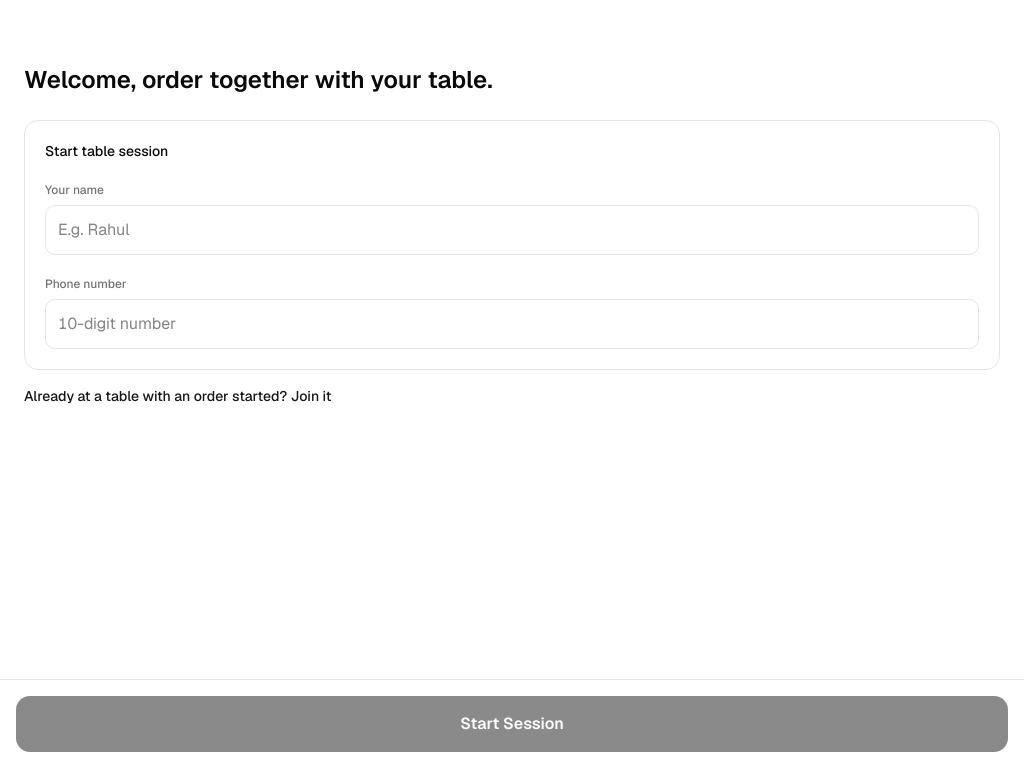
WelcomeFlow › a start attempt that 409s (session_already_open) flips into join mode with a friendly notice, not an error
The image size is (1024, 768).
Type "Rahul" into the field labelled "Your name" at (512, 230), box x1=45 y1=205 x2=979 y2=255
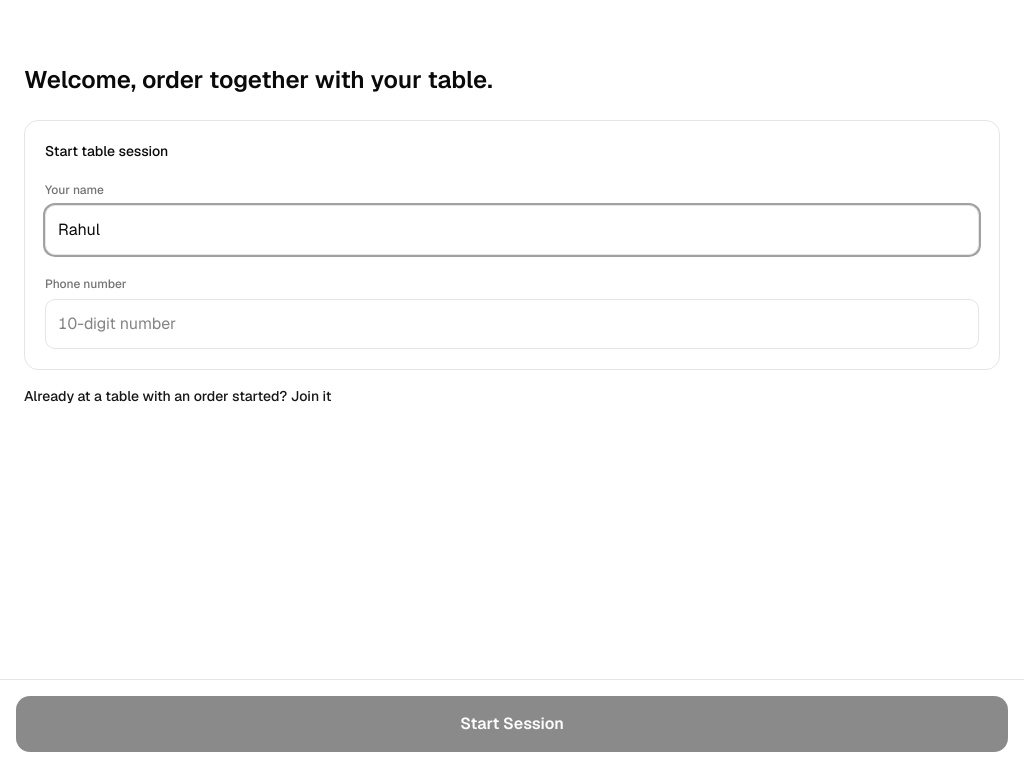
Type "9876543210" into the field labelled "Phone number" at (512, 324), box x1=45 y1=299 x2=979 y2=349
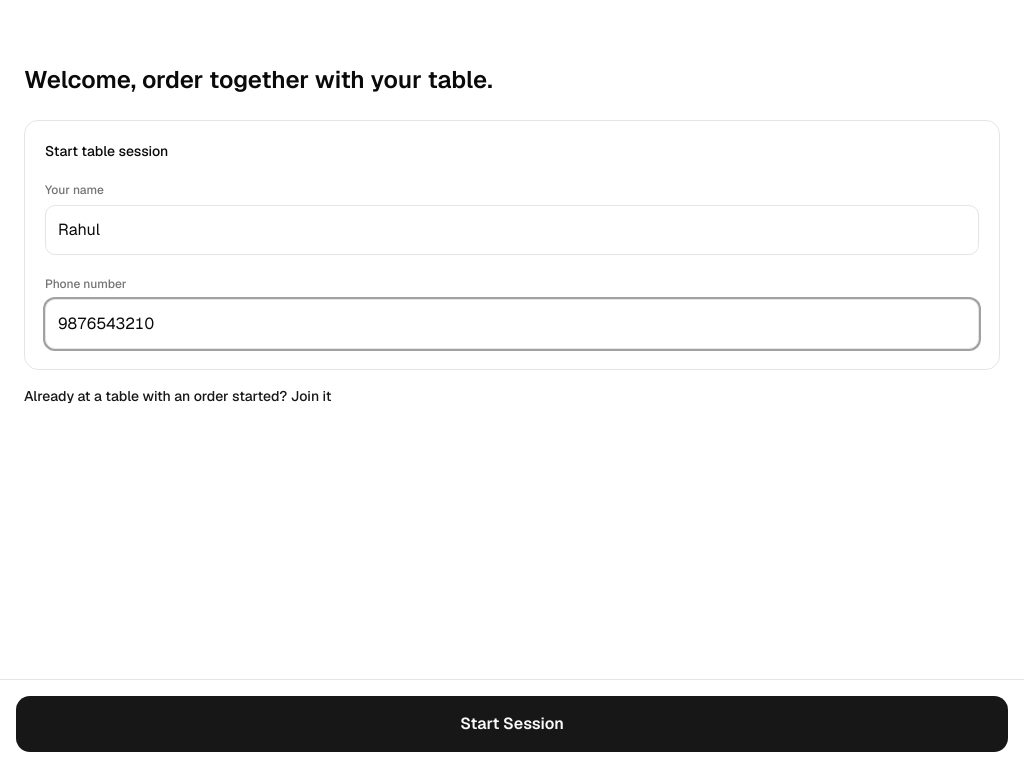
Click the button with test id "qr-start-submit" at (512, 724), box x1=16 y1=696 x2=1008 y2=752
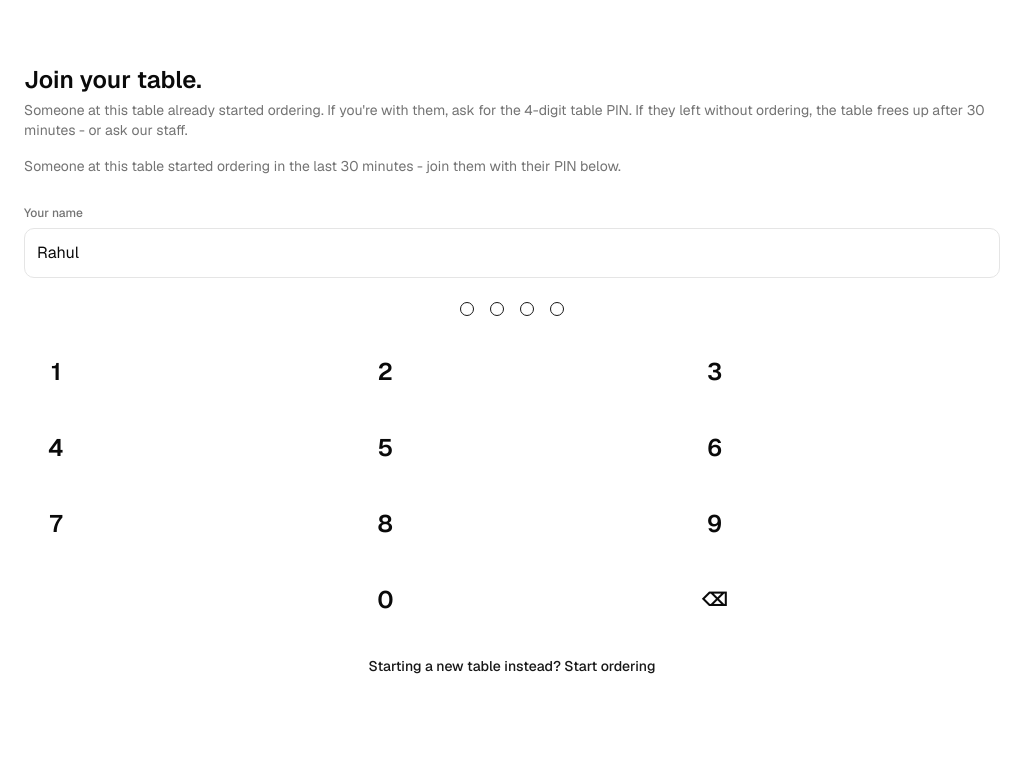
Expected: the element with test id "qr-join-form" is shown
Expected: the text with test id "qr-join-notice" shows "started ordering in the last 30 minutes", x1=24 y1=157 x2=621 y2=175
Expected: the field labelled "Your name" holds "Rahul", x1=24 y1=228 x2=1000 y2=278
